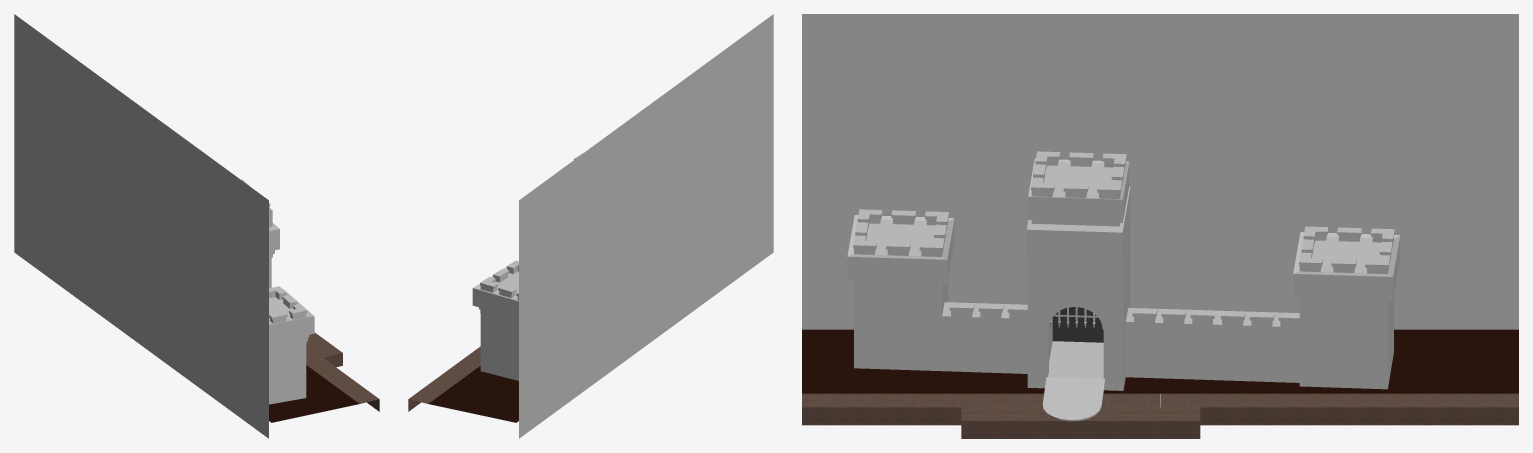
File: LV1_Plat7.fbx
The picture shows the model from 3 angles, left to right: view 1: azimuth 30°, elevation 25°; view 2: azimuth 150°, elevation 25°; view 3: azimuth 270°, elevation 25°; orthographic projection. The views are drawn at different scales.
Visible parts, largest first — view 1: ExtraFloor; view 2: ExtraFloor; view 3: ExtraFloor.
Boxes of the visible parts, x1,y1,x2,y2 form: ExtraFloor: [14, 14, 379, 438]; ExtraFloor: [408, 14, 773, 438]; ExtraFloor: [802, 14, 1518, 438].
Bounding box in the file's own units: 1078 × 1859 × 3600.
